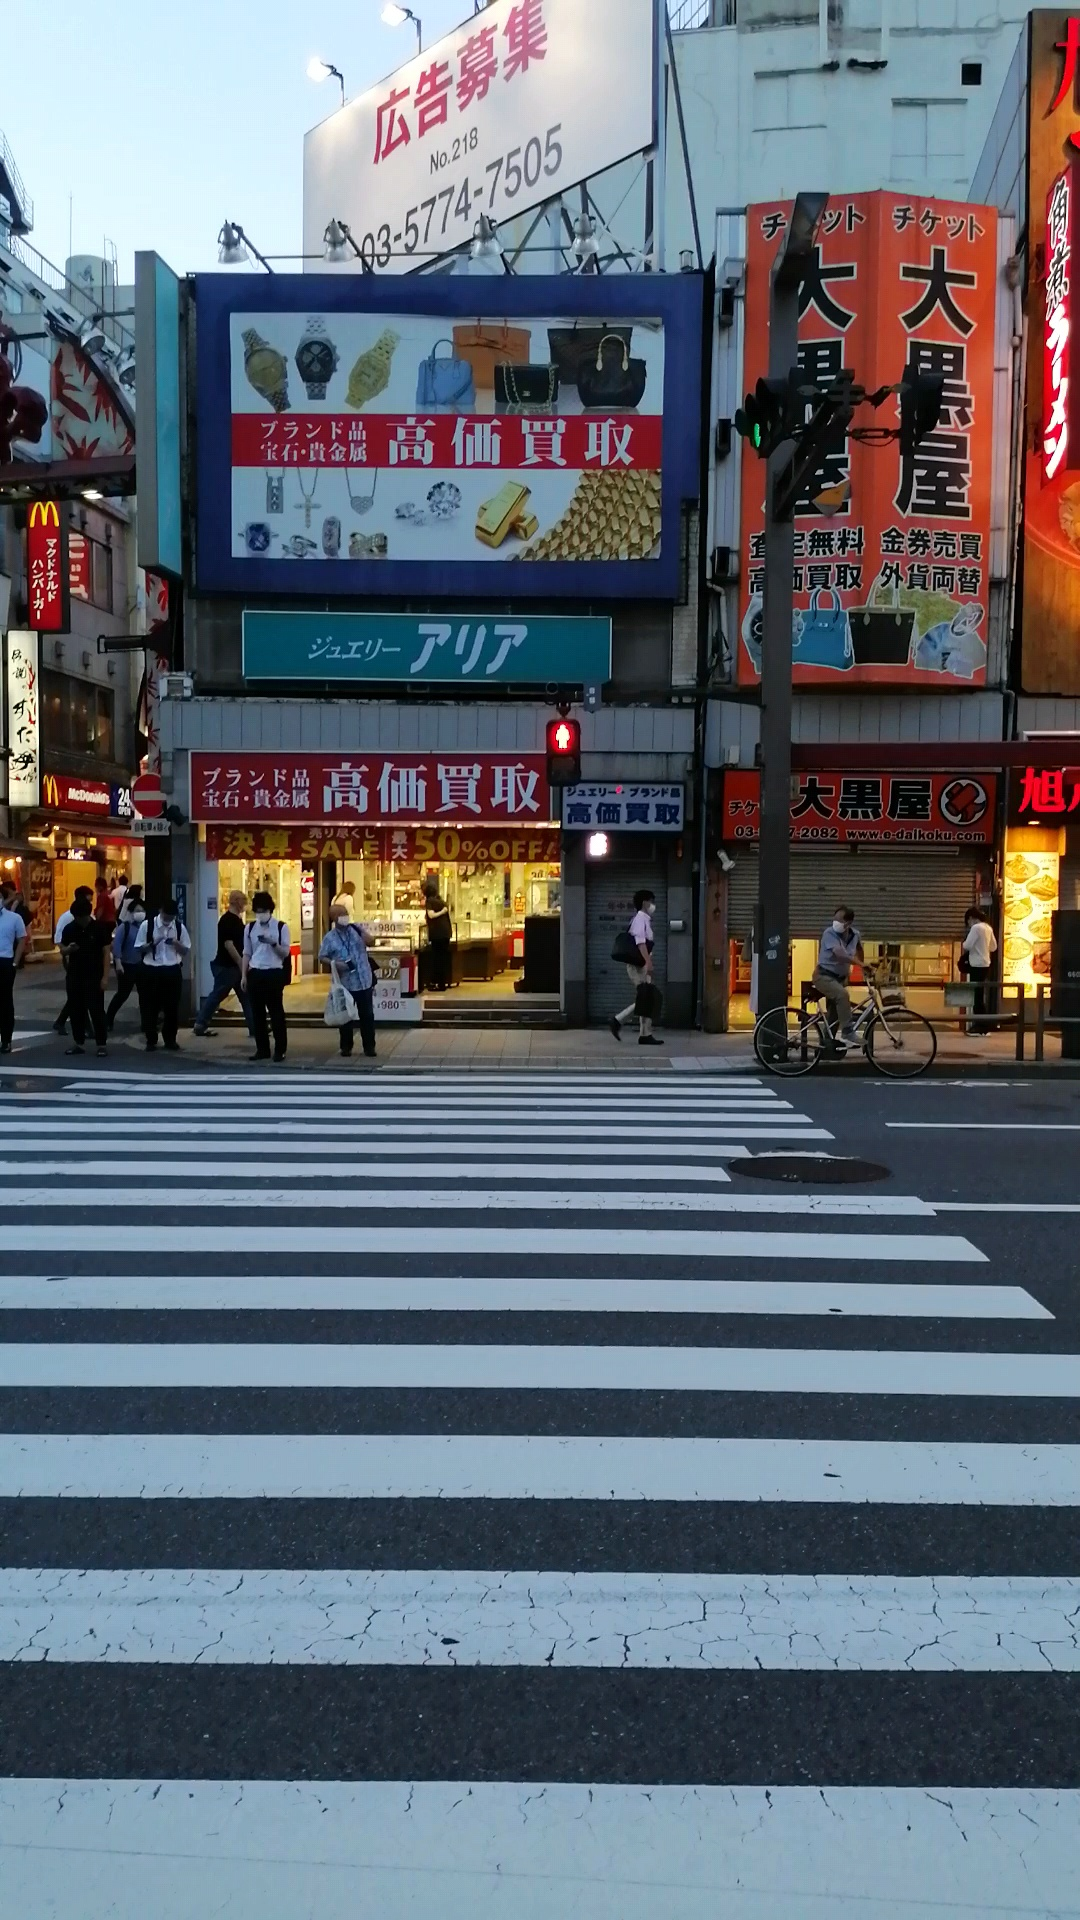red: (545, 720, 580, 786)
